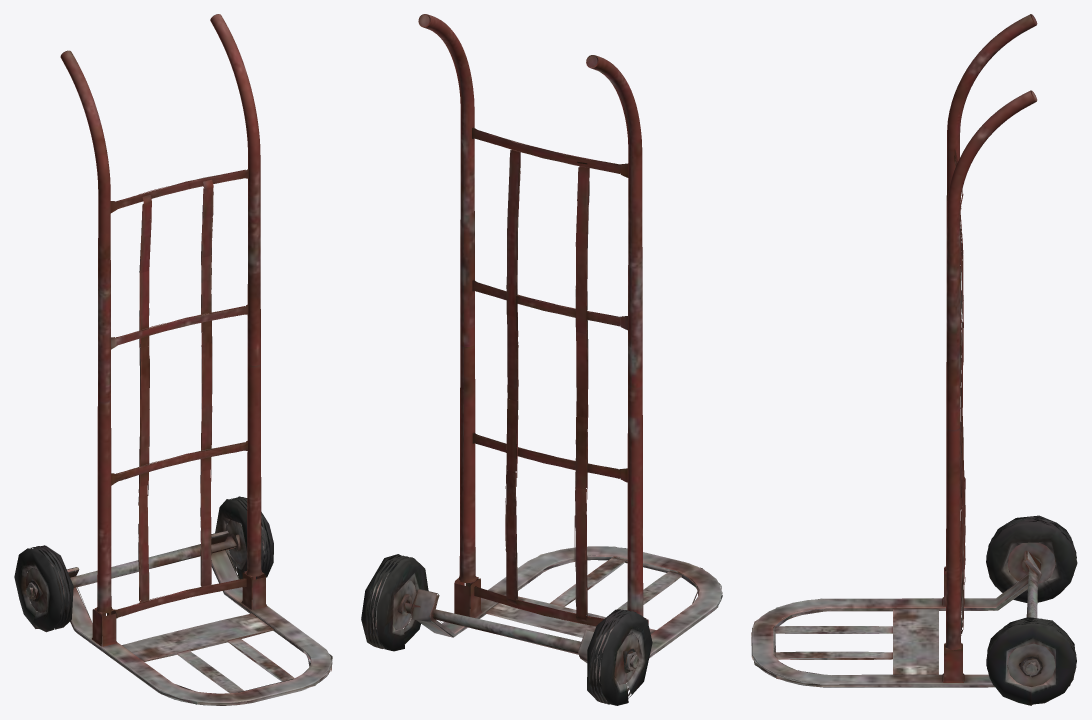
Rendered from ph_hand_truck.glb.
3 renders of one model, left to right at view 1: azimuth 30°, elevation 25°; view 2: azimuth 150°, elevation 25°; view 3: azimuth 270°, elevation 25°, orthographic. The views are drawn at different scales.
Parts seen in each view (by area): view 1: hand_truck; view 2: hand_truck; view 3: hand_truck.
Part boxes in pixels (<box>): hand_truck: <box>14,14,332,705</box>; hand_truck: <box>361,14,722,705</box>; hand_truck: <box>751,14,1077,705</box>.
Size of the model in its own units: 0.5933 by 1.4 by 0.6942.
Materials: 1 (1 with a texture image).
